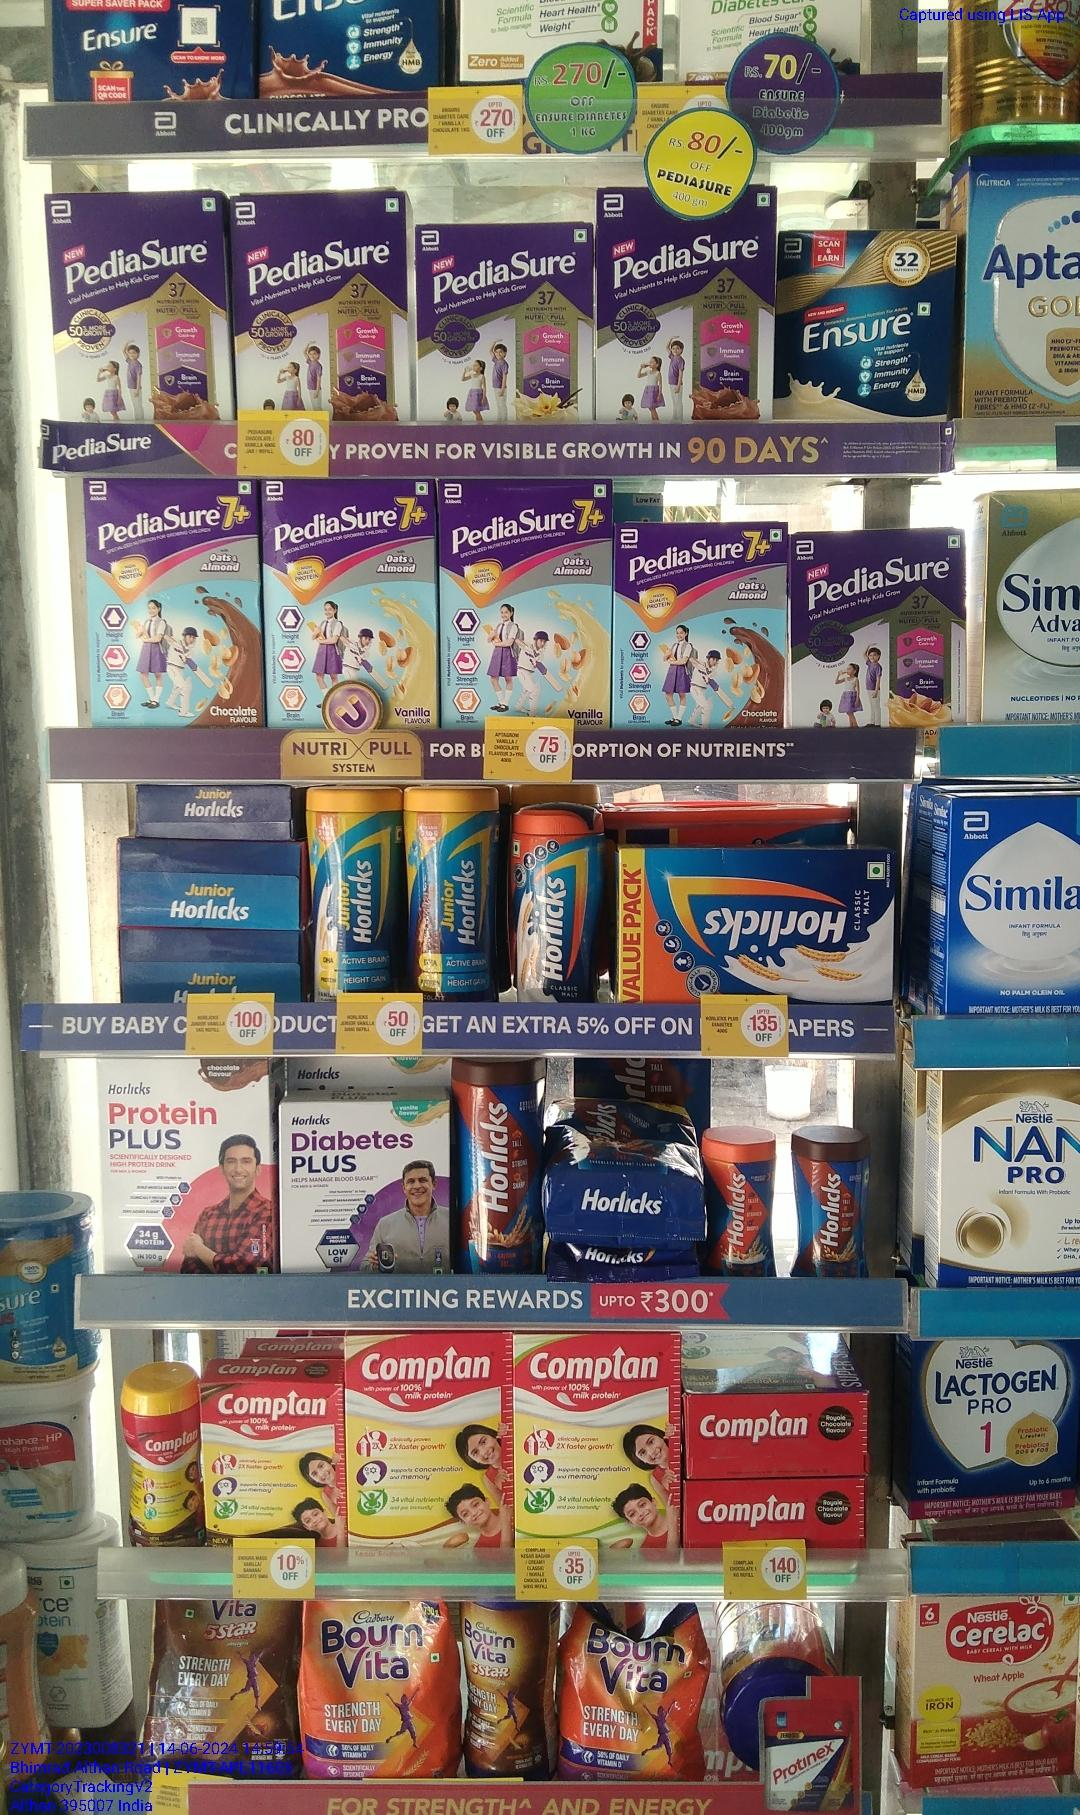BOURN_VITA_FIVE_STAR_MAGIC_500_G_JAR: (465, 1600, 546, 1792)
BOURN_VITA_FIVE_STAR_MAGIC_500_G_POUCH: (147, 1603, 301, 1758)
COMPLAN_CHOCOLATE_200_GMS_PACK: (201, 1378, 343, 1550)
COMPLAN_KESAR_BADAM_500_GMS_PACK: (343, 1334, 512, 1557), (514, 1332, 678, 1548)
HORLICKS_JUNIOR_VANILLA_500_GM_JAR: (314, 801, 404, 992)
HORLICK_CHOCOLATE_200_G_JAR: (792, 1138, 873, 1279)
HORLICK_CLASSIC_MALT_500_G_JAR: (513, 812, 594, 1003)
PEDIASURE_7_PLUS_CHOCOLATE_400_G_PACK: (613, 523, 787, 733)
PEDIASURE_CHOCOLATE_500_G_PACK: (45, 197, 231, 429), (595, 207, 777, 422), (237, 195, 402, 419)
PEDIASURE_VANILLA_500_G_PACK: (419, 219, 594, 429)
